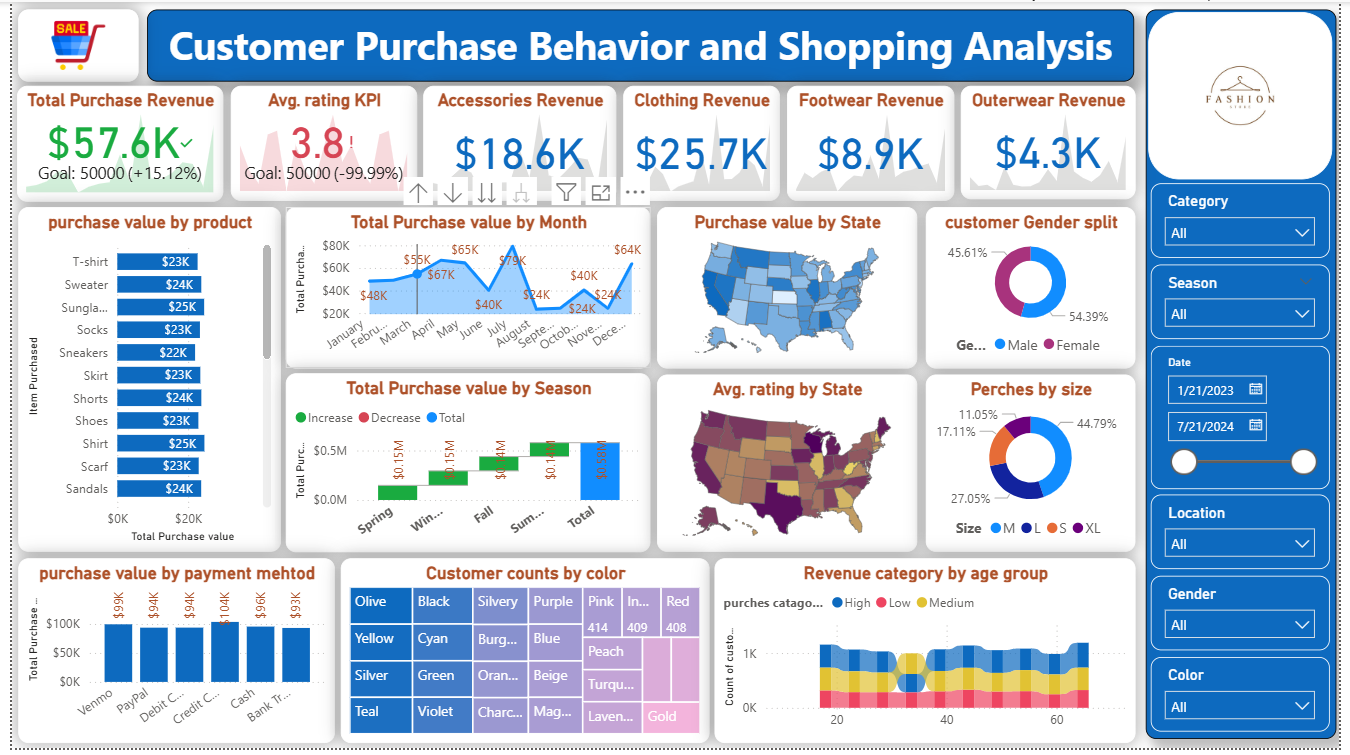

The page's visual inventory and layout, read from the dashboard file:
{"tool":"powerbi","page":{"name":"Page 1","canvas":[1280,720],"ordinal":0},"visuals":[{"type":"textbox","box":[130.3,7.2,953.1,70],"z":0},{"type":"shape","box":[1093.7,6.9,183.9,703.9],"z":1000},{"type":"image","box":[6,7.2,115.8,70],"z":2000},{"type":"kpi","title":"Total Purchase Revenue","fields":{"Indicator":["Mesaure Table.Total Purchase value"],"TrendLine":["Data.Date"],"Goal":["Mesaure Table.Target purchase amount"]},"box":[5.2,81.1,199.1,112.2],"z":3000},{"type":"kpi","title":"Avg. rating KPI","fields":{"TrendLine":["Data.Date"],"Indicator":["Mesaure Table.Avg Rating"],"Goal":["Mesaure Table.Target purchase amount"]},"box":[210.8,81.1,179.8,111],"z":4000},{"type":"kpi","title":"Accessories Revenue","fields":{"Indicator":["Mesaure Table.Total Purchase value"],"TrendLine":["Data.Date"]},"box":[397,81.1,186.6,111.1],"z":5000},{"type":"kpi","title":"Clothing Revenue","fields":{"Indicator":["Mesaure Table.Total Purchase value"],"TrendLine":["Data.Date"]},"box":[590.1,81.1,150.9,111.1],"z":6000},{"type":"kpi","title":"Footwear Revenue","fields":{"Indicator":["Mesaure Table.Total Purchase value"],"TrendLine":["Data.Date"]},"box":[747.5,81.1,161.7,111],"z":7000},{"type":"kpi","title":"Outerwear Revenue","fields":{"Indicator":["Mesaure Table.Total Purchase value"],"TrendLine":["Data.Date"]},"box":[915.7,81.1,168.8,109.8],"z":8000},{"type":"clusteredBarChart","title":"purchase value by product","fields":{"Category":["Data.Item Purchased"],"Y":["Mesaure Table.Total Purchase value"]},"box":[6,197.9,253.4,333],"z":9000},{"type":"areaChart","fields":{"Y":["Mesaure Table.Total Purchase value"],"Category":["Data.Date.Variation.Date Hierarchy.Year","Data.Date.Variation.Date Hierarchy.Quarter","Data.Date.Variation.Date Hierarchy.Month","Data.Date.Variation.Date Hierarchy.Day"]},"box":[264.2,197.9,352.3,155.6],"z":10000},{"type":"waterfallChart","fields":{"Y":["Mesaure Table.Total Purchase value"],"Category":["Data.Season"]},"box":[264.2,358.3,352.3,172.5],"z":11000},{"type":"shapeMap","title":"Purchase value by State","fields":{"Category":["Data.Location"],"Value":["Mesaure Table.Total Purchase value"]},"box":[622.5,197.9,250.9,155.6],"z":12000},{"type":"shapeMap","title":"Avg. rating by State","fields":{"Category":["Data.Location"],"Value":["Mesaure Table.Avg Rating"]},"box":[622.5,359.5,250.9,171.3],"z":13000},{"type":"slicer","fields":{"Values":["Data.Category"]},"box":[1099.1,174.9,172.5,72.4],"z":14000},{"type":"slicer","fields":{"Values":["Data.Season"]},"box":[1099.1,253.4,172.5,72.4],"z":15000},{"type":"slicer","fields":{"Values":["Data.Date"]},"box":[1099.1,331.8,172.5,138.7],"z":16000},{"type":"slicer","fields":{"Values":["Data.Location"]},"box":[1099.1,475.3,172.5,72.4],"z":17000},{"type":"slicer","fields":{"Values":["Data.Gender"]},"box":[1099.1,553.8,172.5,72.4],"z":18000},{"type":"donutChart","title":"customer Gender split","fields":{"Category":["Data.Gender"],"Y":["Mesaure Table.Count of customer"]},"box":[881.9,197.9,202.7,155.6],"z":19000},{"type":"donutChart","title":"Perches by size","fields":{"Y":["Mesaure Table.Count of customer"],"Category":["Data.Size"]},"box":[881.9,359.5,202.7,171.3],"z":20000},{"type":"columnChart","title":"purchase value by payment mehtod","fields":{"Y":["Mesaure Table.Total Purchase value"],"Category":["Data.Payment Method"]},"box":[6,536.9,305.2,178.6],"z":21000},{"type":"treemap","title":"Customer counts by color ","fields":{"Group":["Data.Color"],"Values":["Mesaure Table.Count of customer"]},"box":[317.3,536.9,355.9,178.6],"z":22000},{"type":"slicer","fields":{"Values":["Data.Color"]},"box":[1099.1,632.2,172.5,72.4],"z":23000},{"type":"ribbonChart","title":"Revenue category by age group","fields":{"Y":["Mesaure Table.Count of customer"],"Category":["Data.Age (bins)"],"Series":["Data.purches catagory"]},"box":[678,536.9,406.6,178.6],"z":24000},{"type":"image","box":[1096.7,9.7,177.3,161.7],"z":25000}]}

Visuals, with their boxes in screenshot pixels (x1, y1, x2, y2), scaled from the page's 1280x720 canvas onto the 1350x755 screenshot:
textbox: locate(137, 8, 1143, 81)
shape: locate(1154, 7, 1347, 745)
image: locate(6, 8, 128, 81)
"Total Purchase Revenue" kpi: locate(5, 85, 215, 203)
"Avg. rating KPI" kpi: locate(222, 85, 412, 201)
"Accessories Revenue" kpi: locate(419, 85, 616, 202)
"Clothing Revenue" kpi: locate(622, 85, 782, 202)
"Footwear Revenue" kpi: locate(788, 85, 959, 201)
"Outerwear Revenue" kpi: locate(966, 85, 1144, 200)
"purchase value by product" clusteredBarChart: locate(6, 208, 274, 557)
areaChart - Mesaure Table.Total Purchase value x Data.Date.Variation.Date Hierarchy.Year: locate(279, 208, 650, 371)
waterfallChart - Mesaure Table.Total Purchase value x Data.Season: locate(279, 376, 650, 557)
"Purchase value by State" shapeMap: locate(657, 208, 921, 371)
"Avg. rating by State" shapeMap: locate(657, 377, 921, 557)
slicer - Data.Category: locate(1159, 183, 1341, 259)
slicer - Data.Season: locate(1159, 266, 1341, 342)
slicer - Data.Date: locate(1159, 348, 1341, 493)
slicer - Data.Location: locate(1159, 498, 1341, 574)
slicer - Data.Gender: locate(1159, 581, 1341, 657)
"customer Gender split" donutChart: locate(930, 208, 1144, 371)
"Perches by size" donutChart: locate(930, 377, 1144, 557)
"purchase value by payment mehtod" columnChart: locate(6, 563, 328, 750)
"Customer counts by color " treemap: locate(335, 563, 710, 750)
slicer - Data.Color: locate(1159, 663, 1341, 739)
"Revenue category by age group" ribbonChart: locate(715, 563, 1144, 750)
image: locate(1157, 10, 1344, 180)
